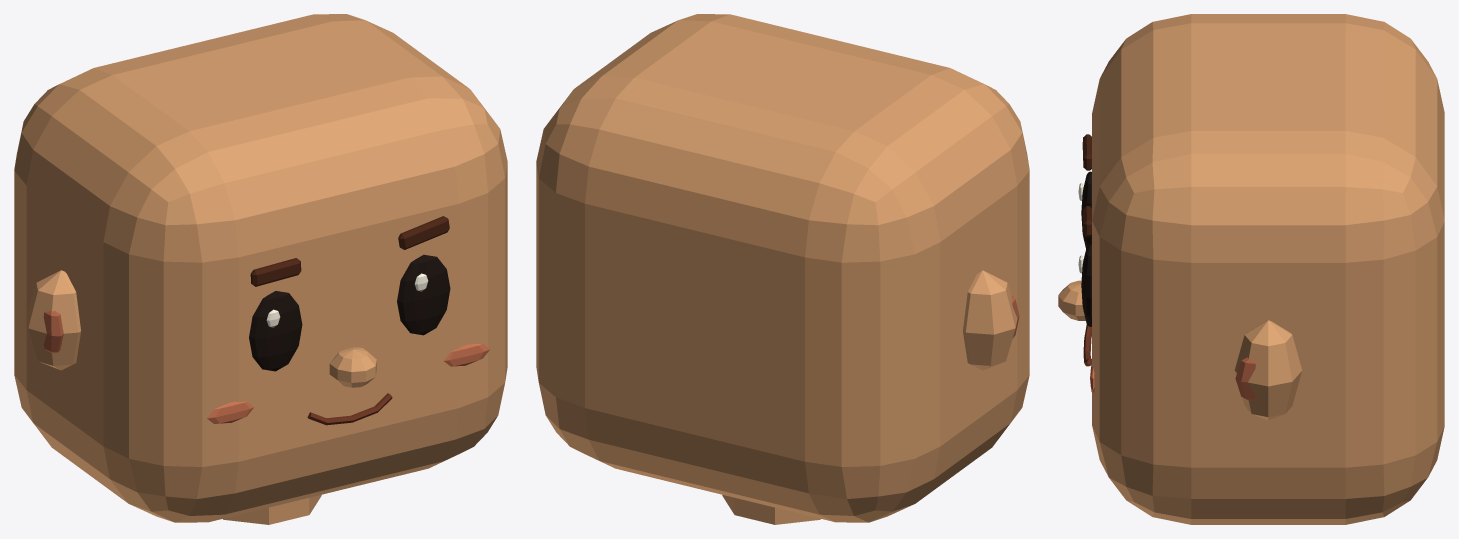
Rendered from SM_NPC_Head_01_Masculine.glb.
3 views of the same model, side by side, from view 1: azimuth 30°, elevation 25°; view 2: azimuth 150°, elevation 25°; view 3: azimuth 270°, elevation 25° (orthographic).
Parts seen in each view (by area): view 1: SM_NPC_Head_01_Masculine; view 2: SM_NPC_Head_01_Masculine; view 3: SM_NPC_Head_01_Masculine.
Part boxes in pixels (left/top/right/bottom): SM_NPC_Head_01_Masculine: left=14, top=14, right=507, bottom=524; SM_NPC_Head_01_Masculine: left=536, top=14, right=1029, bottom=524; SM_NPC_Head_01_Masculine: left=1058, top=14, right=1444, bottom=524.
Size of the model in its own units: 0.748 by 0.65 by 0.5372.
